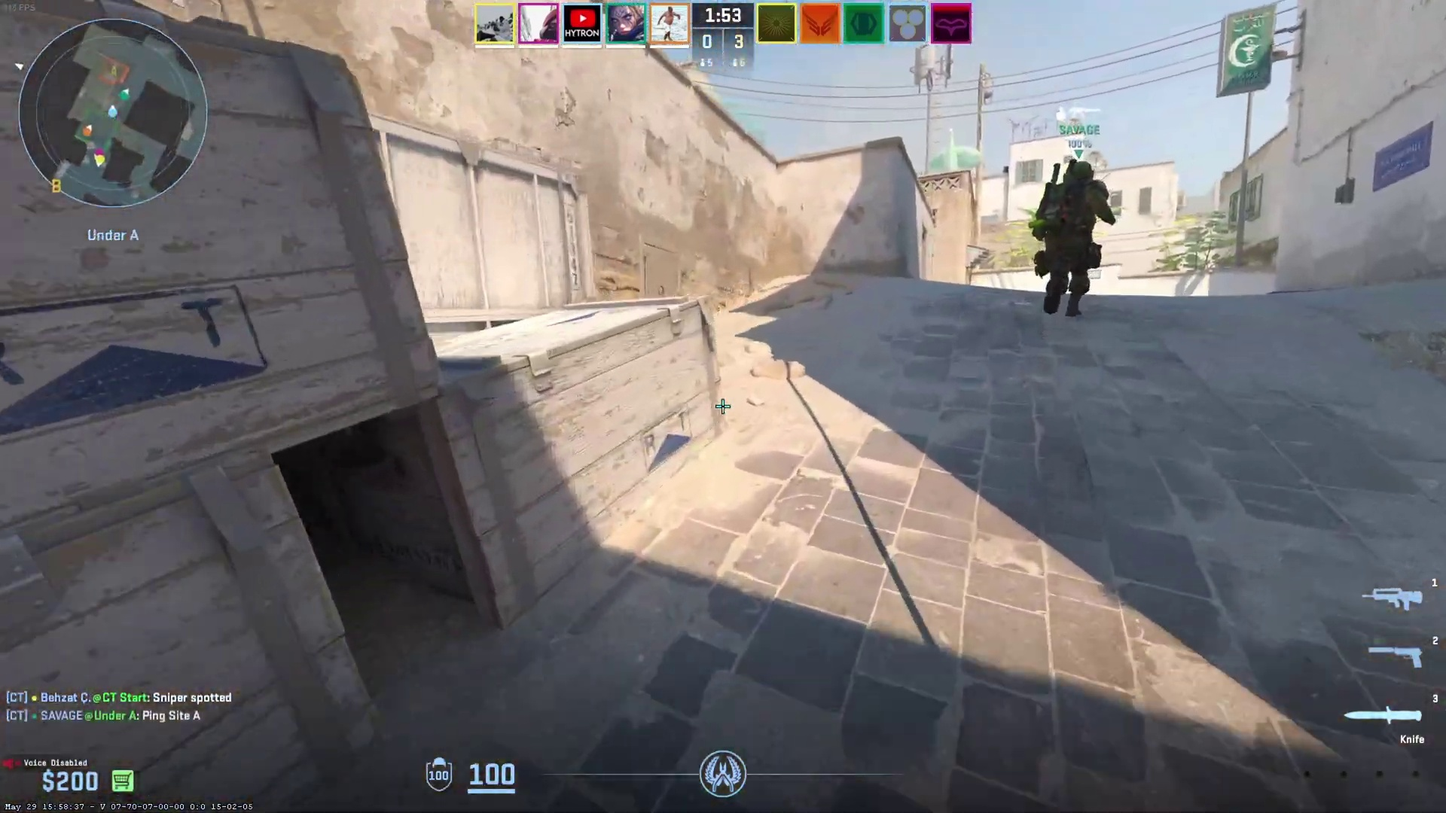CT: (1041, 162, 1105, 319)
